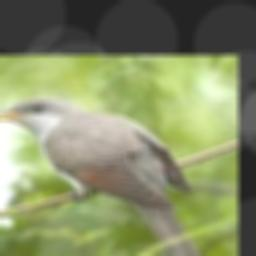Cuckoo: (0, 97, 206, 256)
